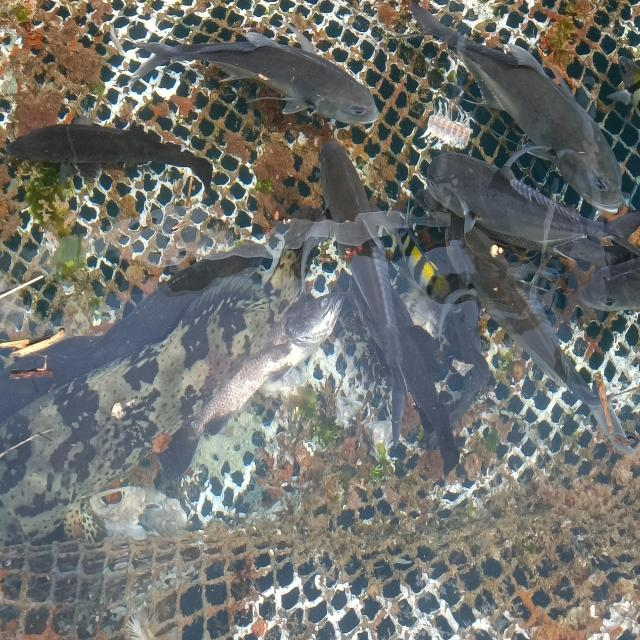ikan: (283, 139, 462, 480), (408, 1, 625, 215), (120, 22, 380, 130), (422, 150, 638, 268), (1, 120, 214, 200)
